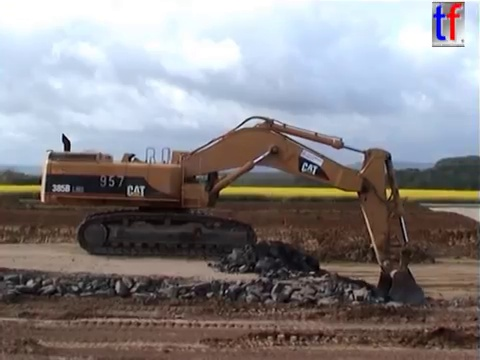excavator: (37, 112, 429, 324)
